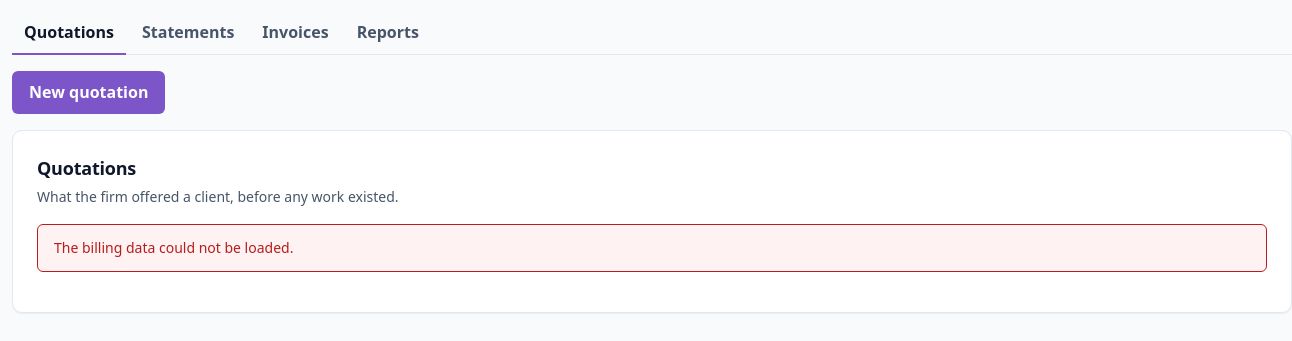
Test: the statement list › says so when there is nothing yet
Click the button "Statements" at (188, 33), box [130,12,246,55]
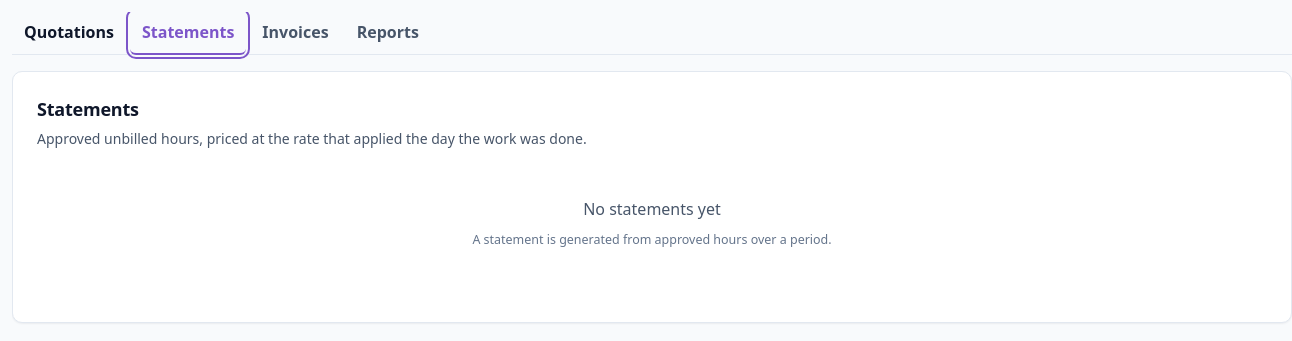
Expected: the text "No statements yet" is shown, [583,197,721,222]
